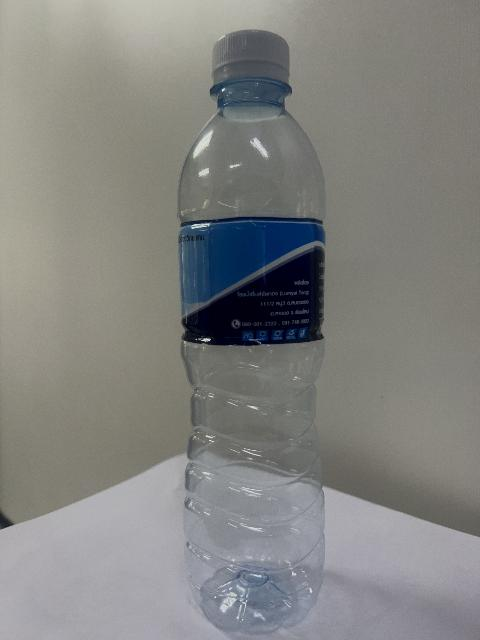bottle: (179, 31, 324, 633)
